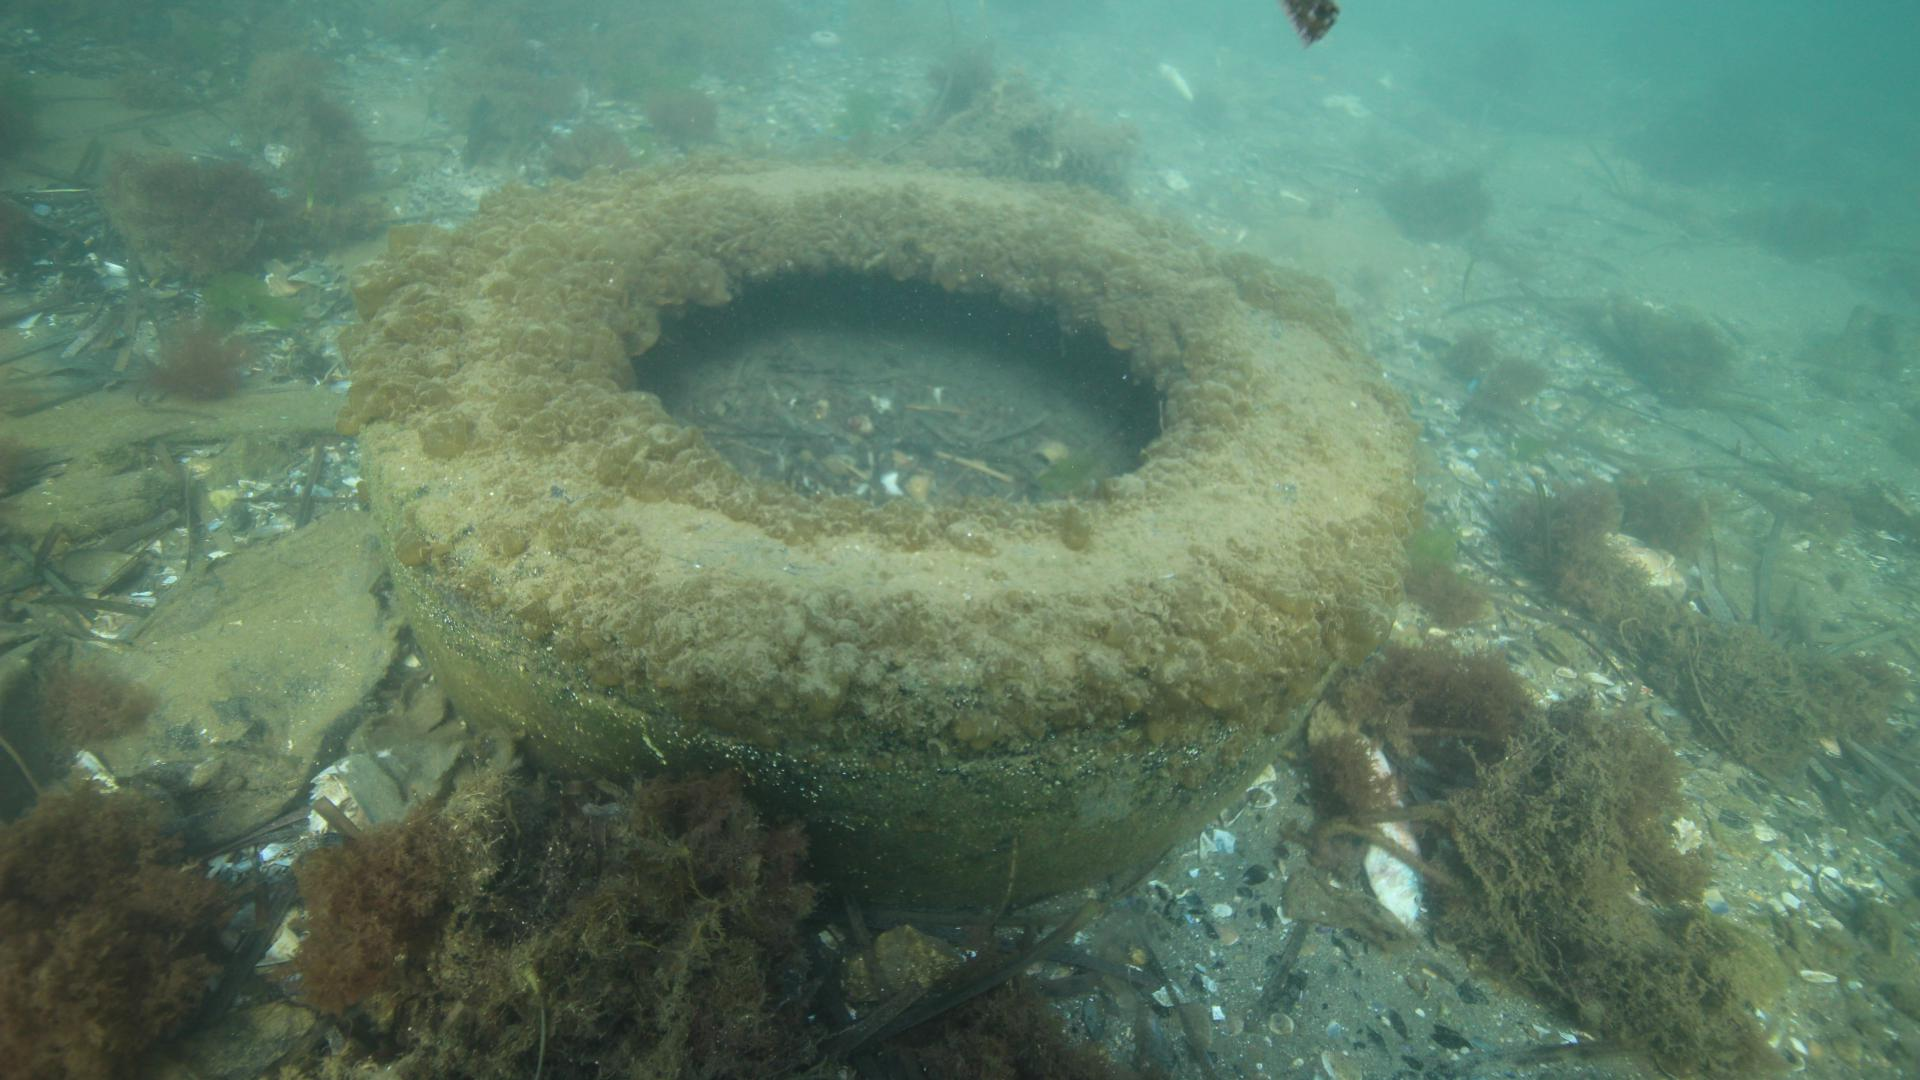tire: (348, 156, 1410, 903)
